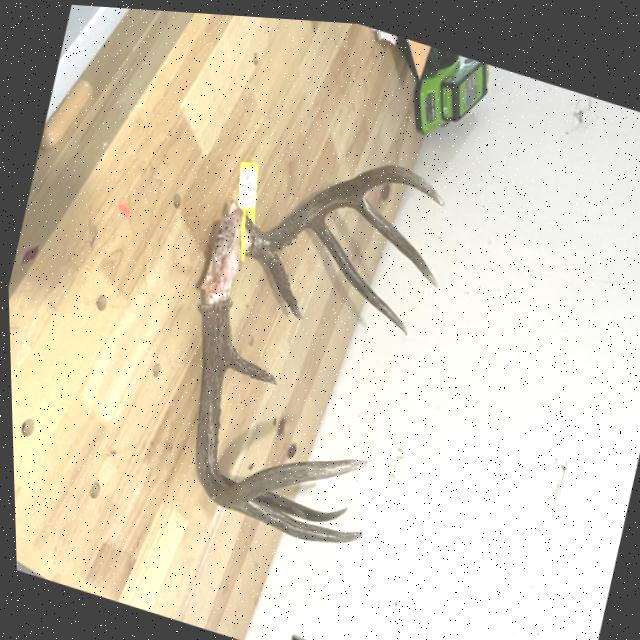L-F: (194, 296, 365, 506)
L-G1: (223, 341, 274, 382)
R-F: (242, 158, 442, 256)
R-G1: (260, 247, 301, 315)
R-G2: (308, 214, 404, 329)
R-G3: (350, 191, 436, 281)
